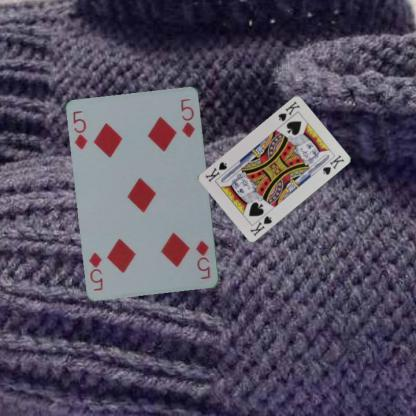5d: (70, 108, 89, 151), (194, 237, 212, 281)
Ks: (276, 98, 302, 122), (248, 213, 274, 237)
